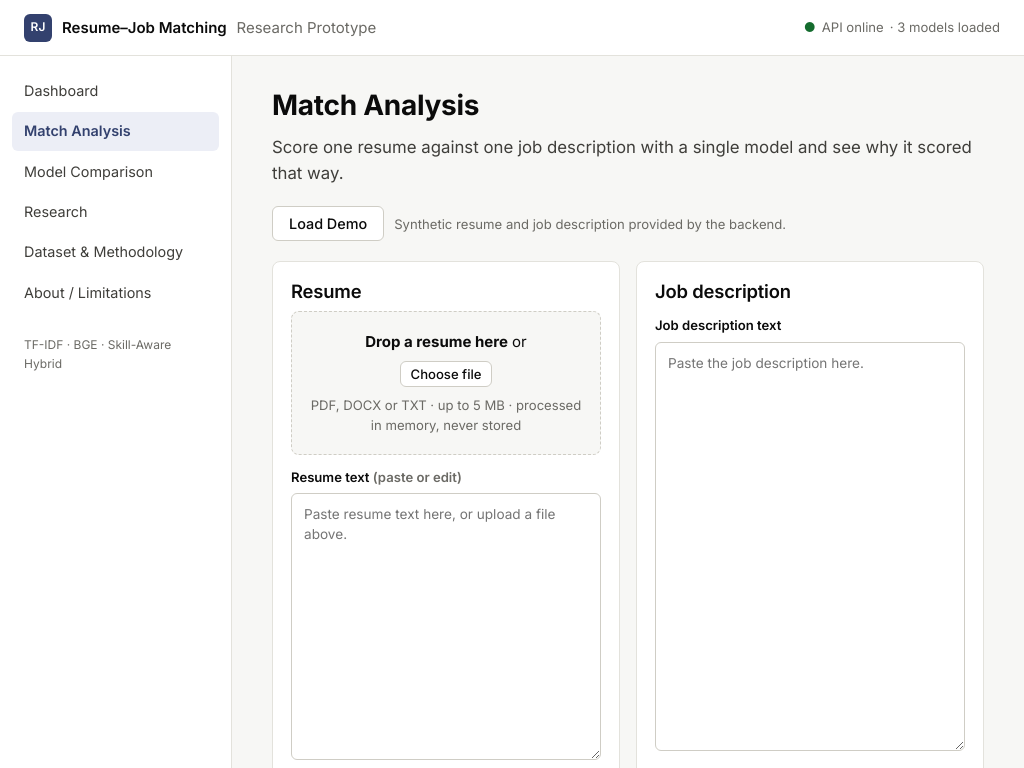
Test case: match analysis › renders the hybrid result with score, category, components and evidence
The width and height of the screenshot is (1024, 768).
Click the button "Load Demo": (328, 224) [272,206,384,241]
(page scrolled)
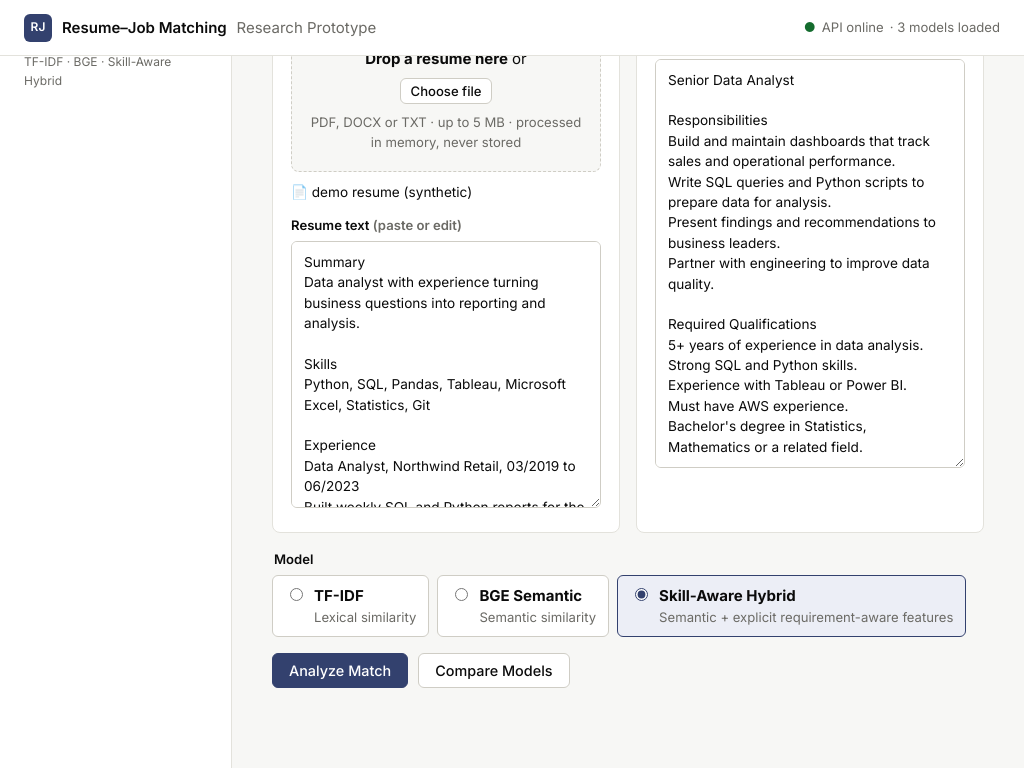
Click the button "Analyze Match": (340, 670) [272,653,408,688]
(page scrolled)
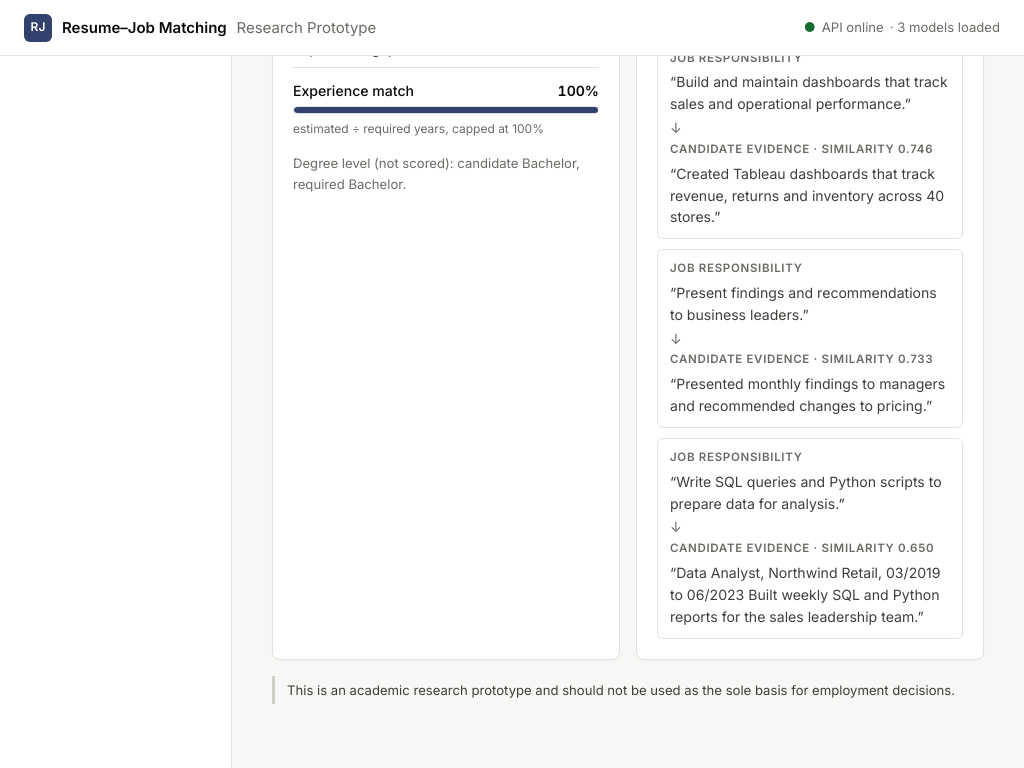
Check: the text "academic research prototype" is shown, box [287,682,955,698]
